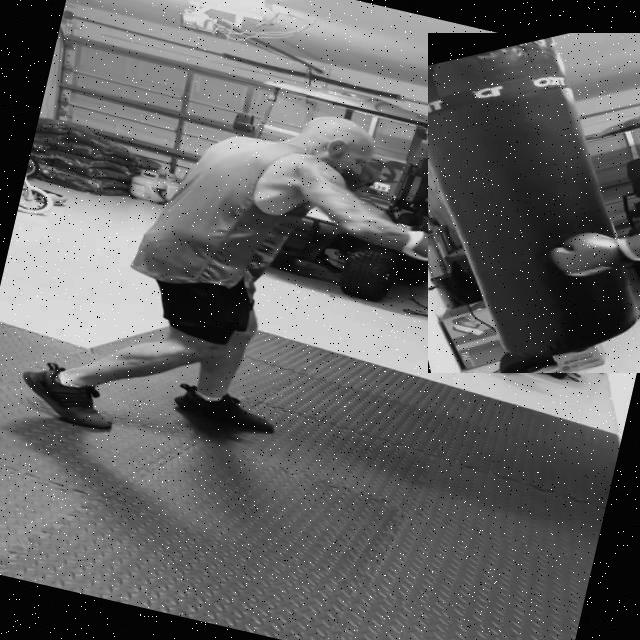punch: (150, 74, 558, 310)
